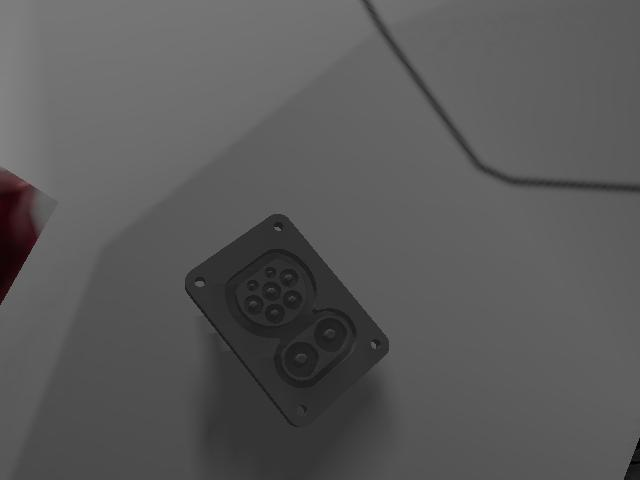EV-socket: (185, 215, 388, 426)
